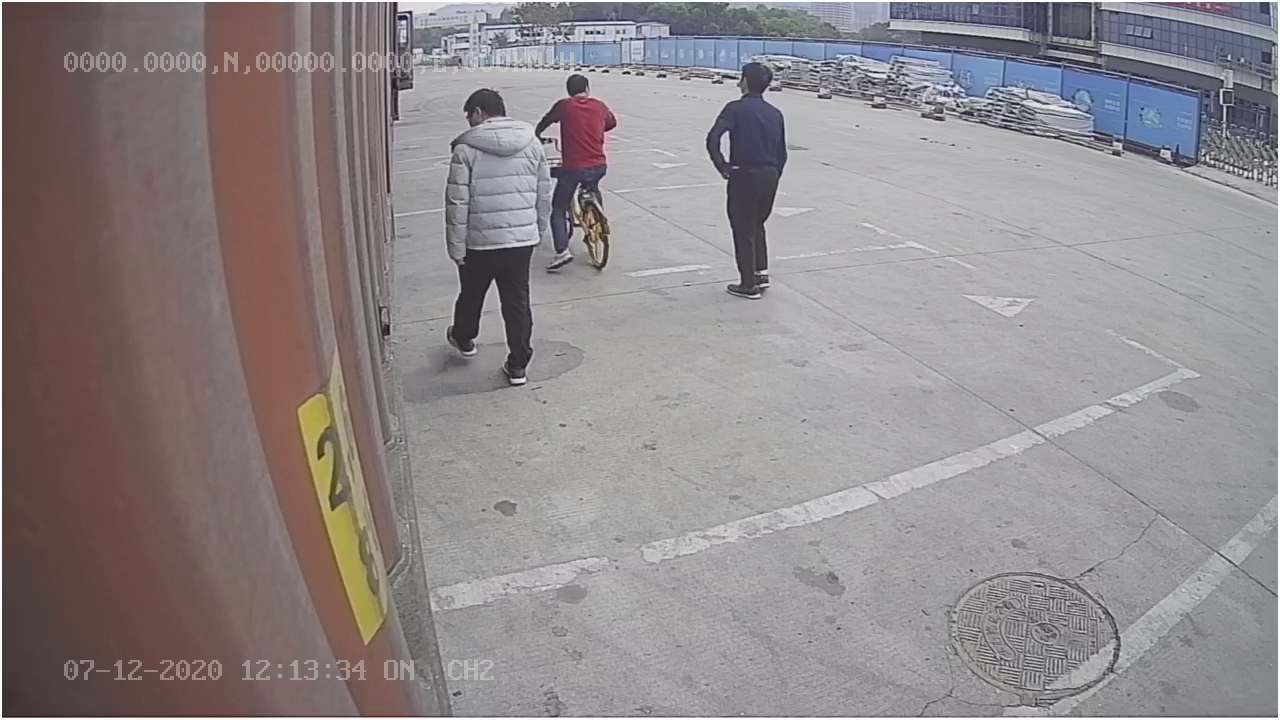person: (703, 62, 793, 301)
